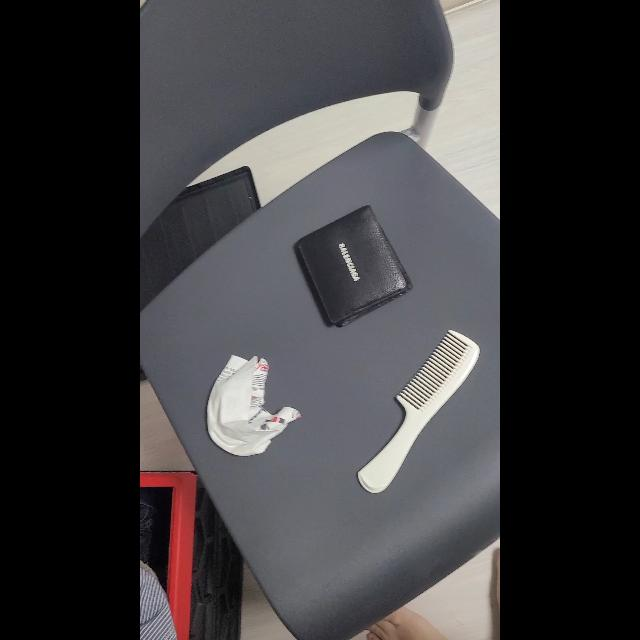COMB: (358, 329, 480, 493)
Glasses cleaning cloth: (206, 354, 302, 456)
WALLET: (294, 204, 412, 328)
